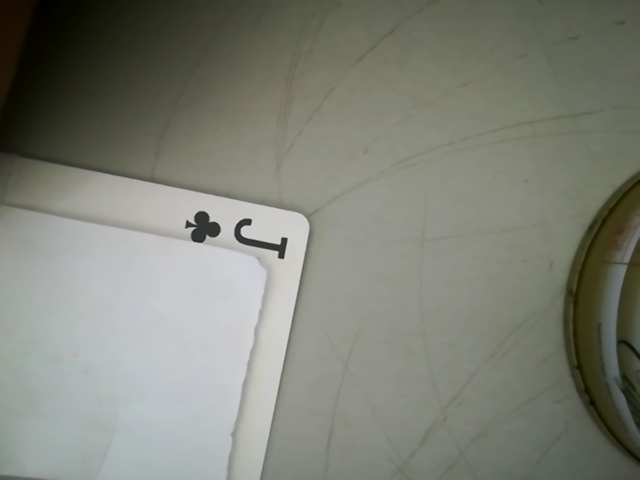mh j: (171, 202, 303, 259)
